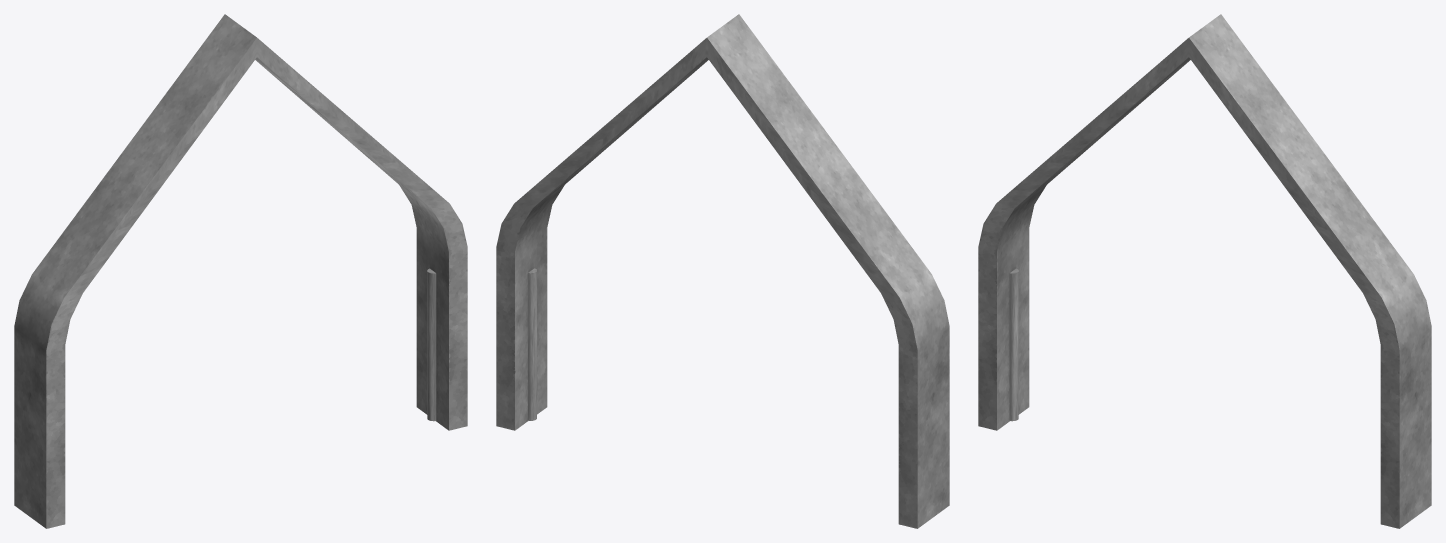
Rendered from archway_textured.fbx.
The picture shows the model from 3 angles, left to right: view 1: azimuth 30°, elevation 25°; view 2: azimuth 150°, elevation 25°; view 3: azimuth 330°, elevation 25°; orthographic projection.
Visible parts, largest first — view 1: archway_low; view 2: archway_low; view 3: archway_low.
Part boxes in pixels (x1,y1,x2,y2): archway_low: (14,14,467,528); archway_low: (496,14,949,528); archway_low: (978,14,1431,528).
Size of the model in its own units: 527 by 526 by 69.69.
Materials: 1 (1 with a texture image).
